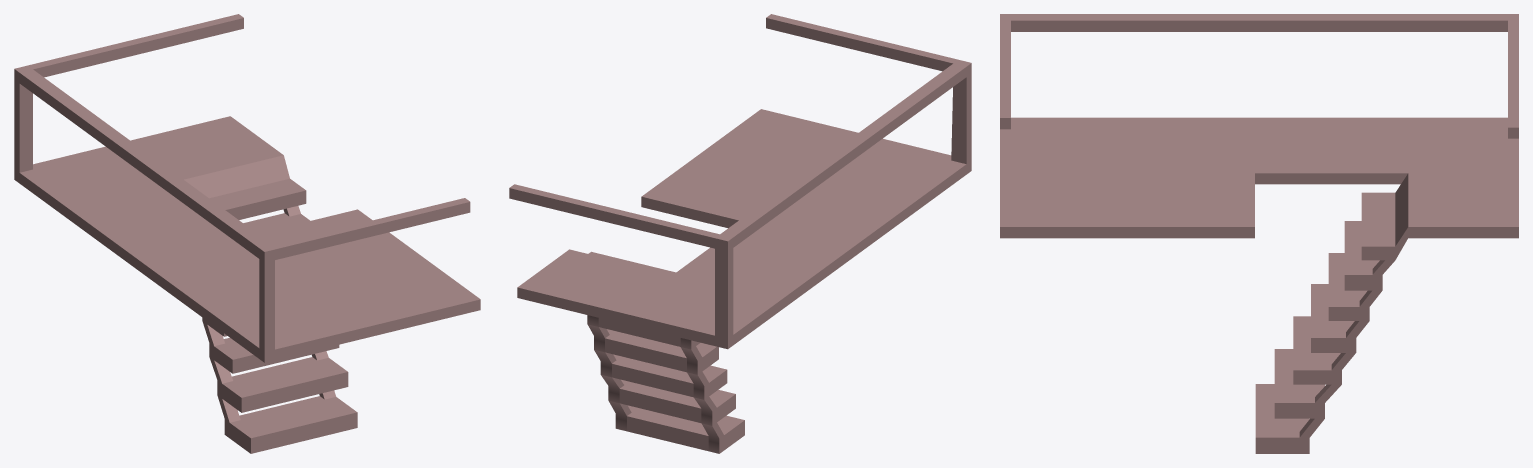
The model's file is Container_Stairs_5.fbx.
3 views of the same model, side by side, from view 1: azimuth 30°, elevation 25°; view 2: azimuth 150°, elevation 25°; view 3: azimuth 270°, elevation 25° (orthographic). The views are drawn at different scales.
Parts seen in each view (by area): view 1: pasted__pasted___pCube48; view 2: pasted__pasted___pCube48; view 3: pasted__pasted___pCube48.
Boxes of the visible parts, x1=… form: pasted__pasted___pCube48: x1=14, y1=14, x2=480, y2=453; pasted__pasted___pCube48: x1=509, y1=14, x2=971, y2=453; pasted__pasted___pCube48: x1=1000, y1=14, x2=1518, y2=453.
Size of the model in its own units: 2.71 by 3.68 by 5.23.
